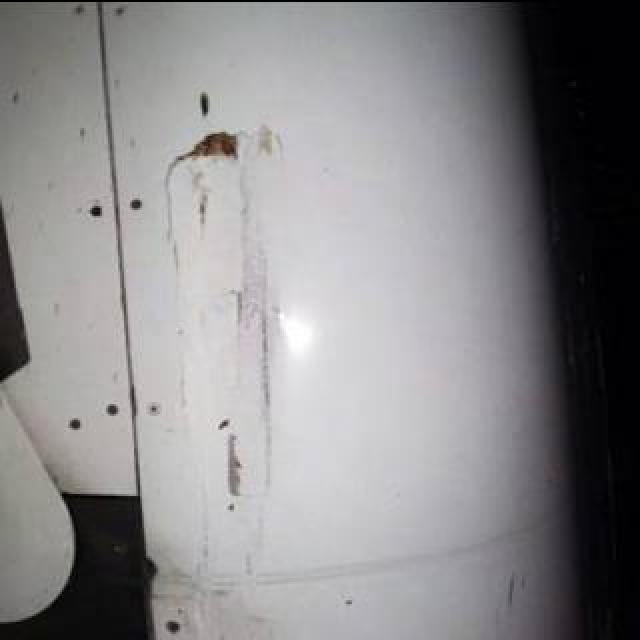crack: (164, 127, 242, 283), (226, 429, 242, 497), (226, 283, 244, 341)
